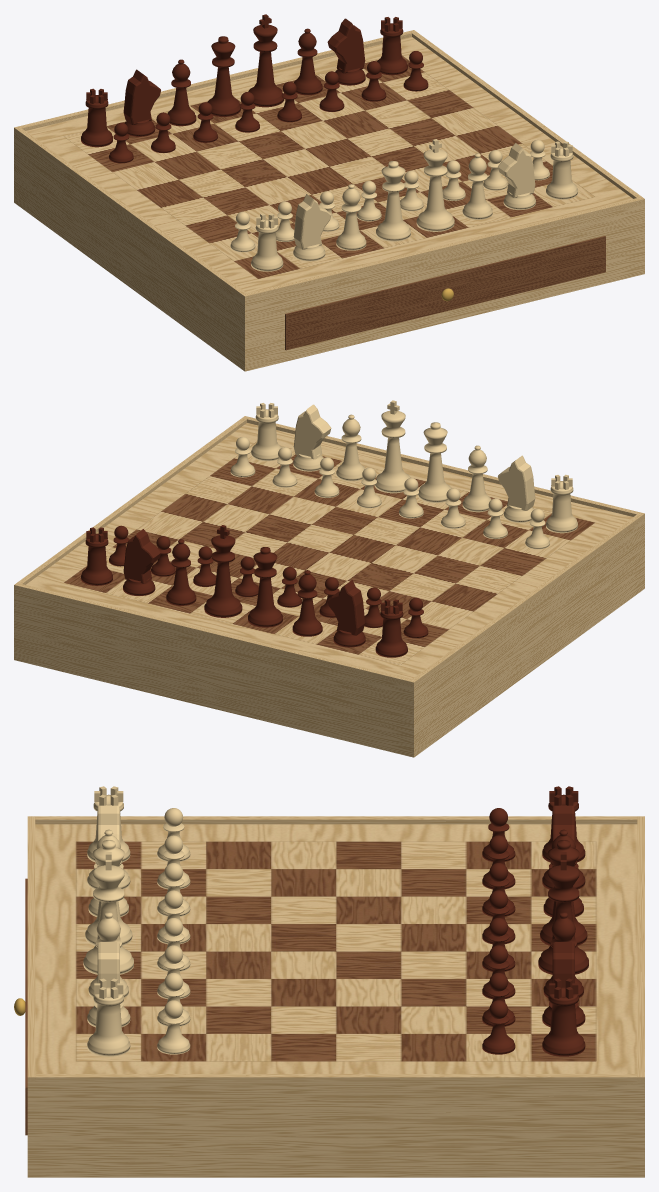
File: philidor-3d-erable-tiroir-38-v2.glb
3 renders of one model, top to bottom at view 1: azimuth 30°, elevation 25°; view 2: azimuth 150°, elevation 25°; view 3: azimuth 270°, elevation 25°, orthographic. The views are drawn at different scales.
Parts seen in each view (by area): view 1: erable-tiroir-38; view 2: erable-tiroir-38; view 3: erable-tiroir-38.
Boxes of the visible parts, box(x1,y1,x2,y2) form: erable-tiroir-38: box(14, 14, 644, 371); erable-tiroir-38: box(14, 400, 644, 757); erable-tiroir-38: box(14, 786, 644, 1177).
Size of what is drawn, in the model's own units: 0.38 by 0.141 by 0.3884.
Materials: 6 (3 with a texture image).
